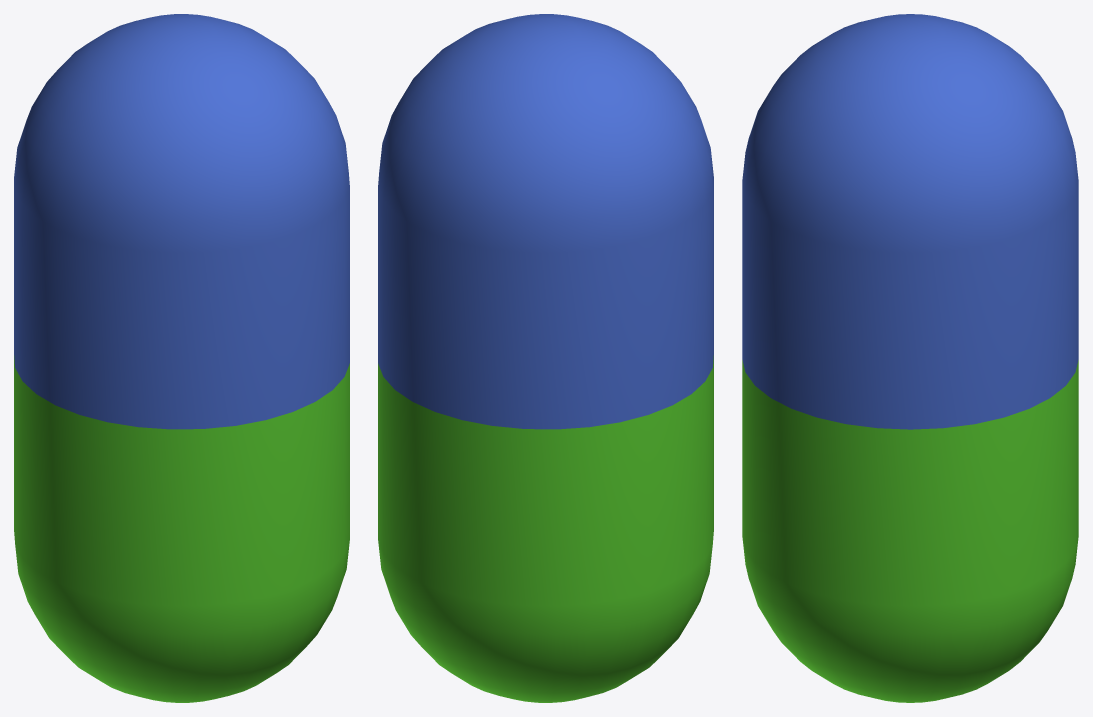
File: pill_model.dae
The picture shows the model from 3 angles, left to right: view 1: azimuth 30°, elevation 25°; view 2: azimuth 150°, elevation 25°; view 3: azimuth 270°, elevation 25°; orthographic projection.
Parts seen in each view (by area): view 1: Sphere; view 2: Sphere; view 3: Sphere.
Part boxes in pixels (x1,y1,x2,y2): Sphere: (14,14,349,702); Sphere: (378,14,713,702); Sphere: (742,14,1078,702).
Bounding box in the file's own units: 2 × 2 × 4.31.
